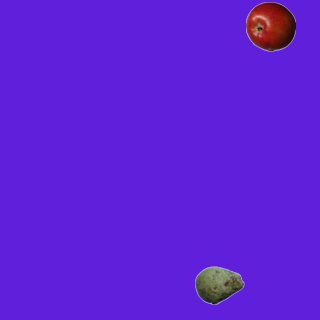Apple Braeburn: (245, 1, 295, 51)
Pear Stone: (194, 260, 244, 310)
